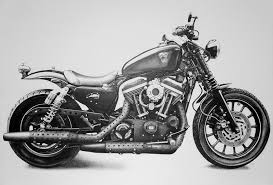motorbike: (3, 16, 271, 175)
